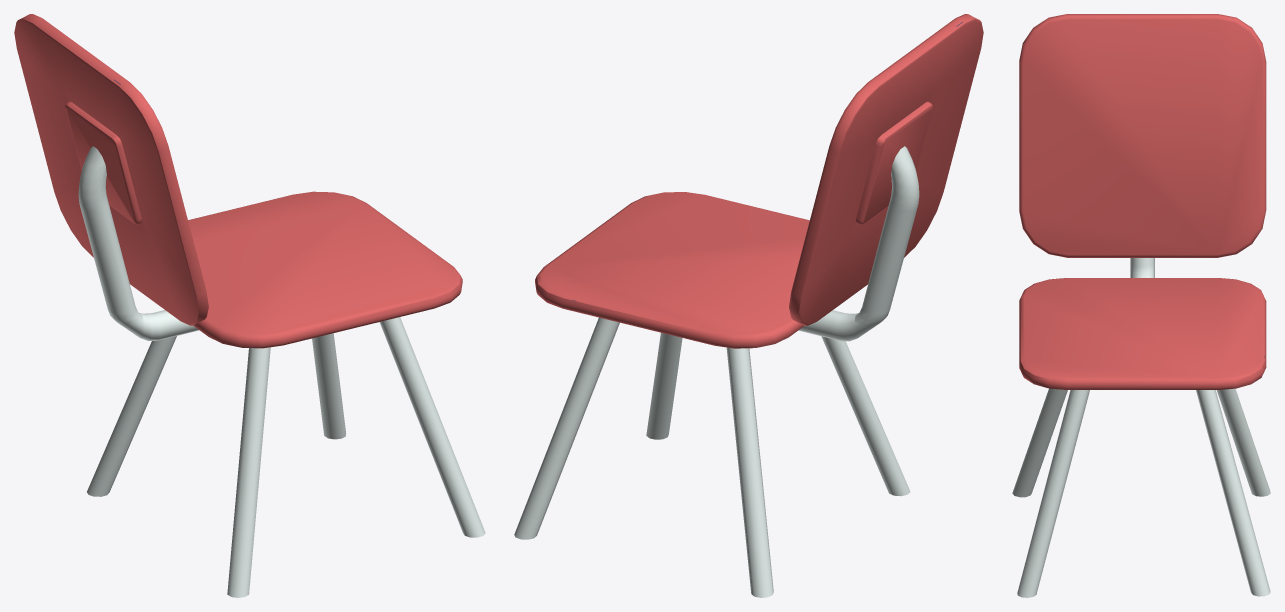
File: basic chair.fbx
The picture shows the model from 3 angles, left to right: view 1: azimuth 30°, elevation 25°; view 2: azimuth 150°, elevation 25°; view 3: azimuth 270°, elevation 25°; orthographic projection. The views are drawn at different scales.
Visible parts, largest first — view 1: Cube; view 2: Cube; view 3: Cube.
Part boxes in pixels (bbox=[...]): Cube: bbox=[14, 14, 485, 597]; Cube: bbox=[514, 14, 983, 597]; Cube: bbox=[1012, 14, 1270, 597].
Size of the model in its own units: 276 by 395 by 209.
